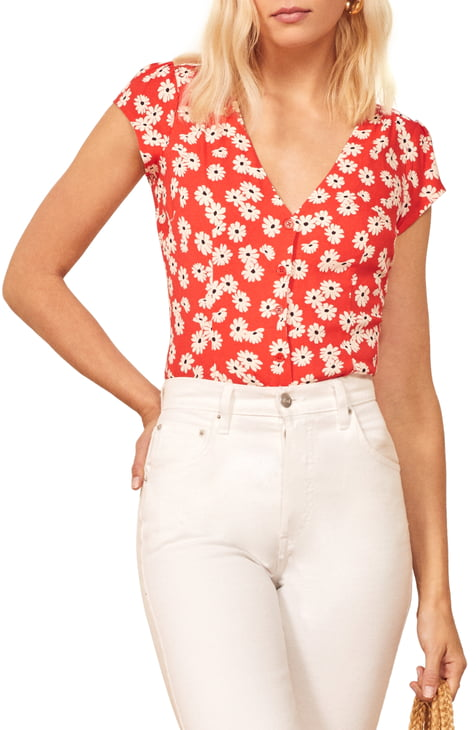C_short blouse: (110, 58, 448, 394)
